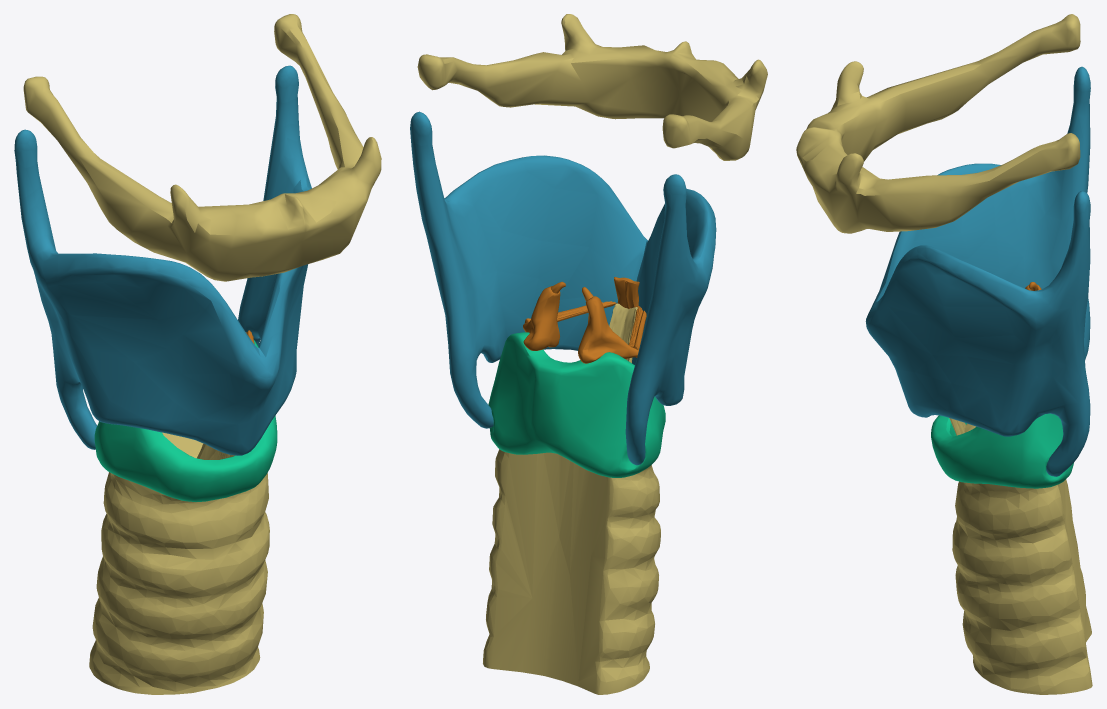
Rendered from fbx_frame_0005.obj.
3 renders of one model, left to right at view 1: azimuth 30°, elevation 25°; view 2: azimuth 150°, elevation 25°; view 3: azimuth 270°, elevation 25°, orthographic. The views are drawn at different scales.
Parts seen in each view (by area): view 1: maya2sketchfab.010, maya2sketchfab.001, maya2sketchfab.011, maya2sketchfab.005; view 2: maya2sketchfab.010, maya2sketchfab.001, maya2sketchfab.011, maya2sketchfab.005, maya2sketchfab.004, maya2sketchfab.006, maya2sketchfab.007; view 3: maya2sketchfab.010, maya2sketchfab.001, maya2sketchfab.011, maya2sketchfab.005.
Boxes of the visible parts, x1,y1,x2,y2 form: maya2sketchfab.010: (14,65,311,455); maya2sketchfab.001: (89,432,269,694); maya2sketchfab.011: (23,14,381,281); maya2sketchfab.005: (94,340,277,501); maya2sketchfab.010: (410,111,716,465); maya2sketchfab.001: (483,303,660,694); maya2sketchfab.011: (417,14,767,160); maya2sketchfab.005: (488,332,665,477); maya2sketchfab.004: (578,287,638,363); maya2sketchfab.006: (523,281,565,350); maya2sketchfab.007: (614,277,639,308); maya2sketchfab.010: (865,66,1090,476); maya2sketchfab.001: (949,418,1092,694); maya2sketchfab.011: (796,14,1080,233); maya2sketchfab.005: (931,413,1073,488).
Size of the model in its own units: 38.66 by 78.9 by 36.33.
